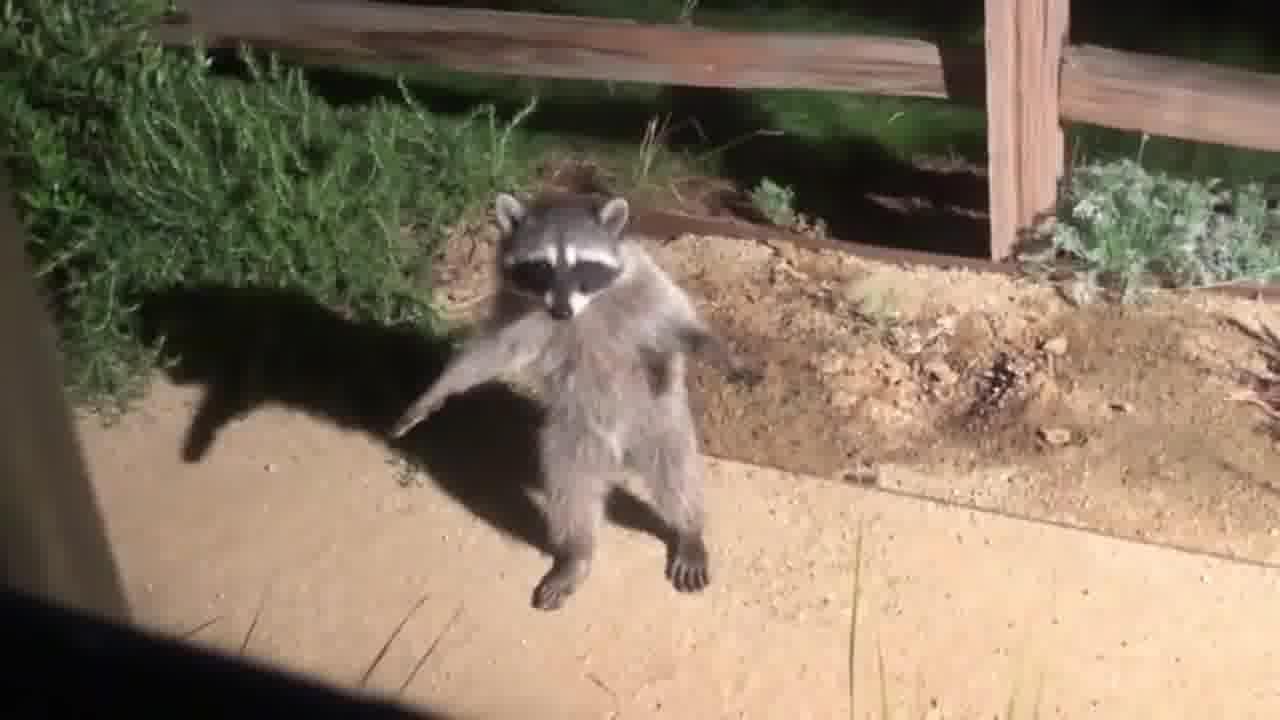raccoon: (377, 178, 773, 622)
